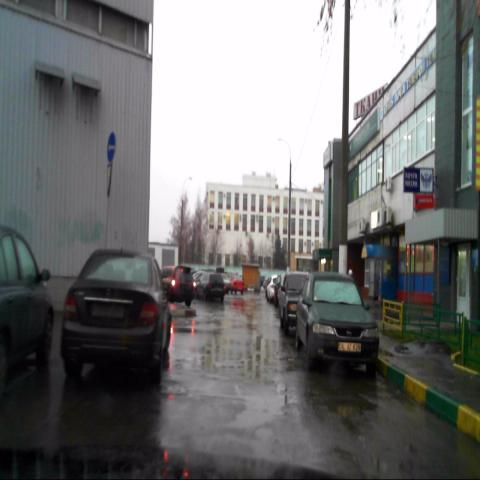4_1_2_2: (107, 131, 116, 164)
